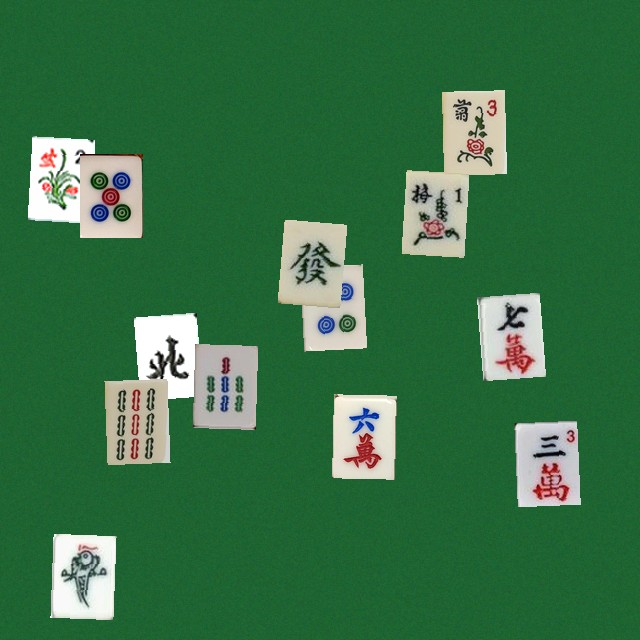tile: (133, 312, 196, 396), (299, 264, 362, 348), (277, 219, 340, 303), (441, 90, 504, 174), (401, 170, 464, 254), (476, 292, 539, 376), (27, 136, 90, 220), (332, 394, 395, 478), (192, 344, 255, 428), (50, 533, 113, 617), (79, 153, 142, 237), (104, 378, 167, 462), (514, 420, 577, 504)
